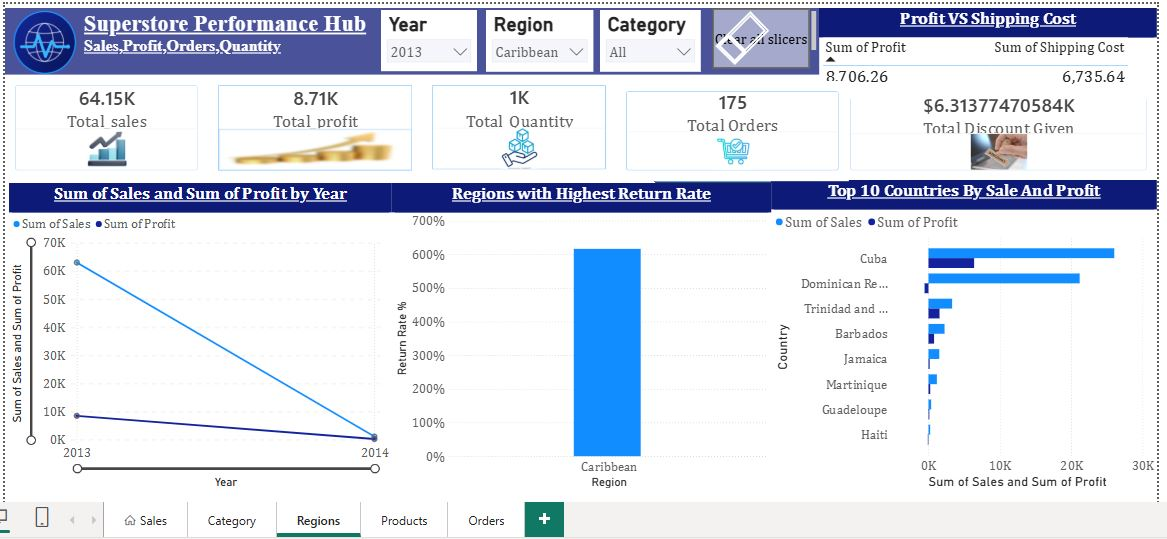

The dashboard page shown, as its layout file describes it:
{"tool":"powerbi","page":{"name":"Regions","canvas":[1920,1080],"ordinal":2},"visuals":[{"type":"cardVisual","fields":{"Data":["Profit-measures.Total_sales"]},"box":[1081.7,158.3,260.6,139.7],"z":0},{"type":"cardVisual","fields":{"Data":["Profit-measures.Total Discount Given"]},"box":[1391.7,133.3,528.3,161.7],"z":1000},{"type":"lineChart","fields":{"Category":["Orders.Ship Date.Variation.Date Hierarchy.Year"],"Y":["Sum(Orders.Sales)","Sum(Orders.Profit)"]},"box":[6.7,298.3,638.3,513.3],"z":2000},{"type":"clusteredBarChart","title":"Top 10 Countries By Sale And Profit","fields":{"Category":["Orders.Country"],"Y":["Sum(Orders.Sales)","Sum(Orders.Profit)"]},"box":[1276.7,293.3,643.3,518.3],"z":3000},{"type":"tableEx","title":"Profit VS Shipping Cost","fields":{"Values":["Orders.Profit","Orders.Shipping Cost"]},"box":[1356.7,6.7,563.3,151.7],"z":4000},{"type":"lineStackedColumnComboChart","title":"Regions with Highest Return Rate","fields":{"Category":["Orders.Region"],"Y":["Profit-measures.Return Rate %"]},"box":[645,298.3,631.7,513.3],"z":5000},{"type":"textbox","title":"Superstore Performance Hub","box":[0,6.3,1357.1,111.1],"z":6000},{"type":"image","box":[6.3,9.5,119,107.9],"z":7000},{"type":"slicer","fields":{"Values":["Custom_Calender.Date.Variation.Date Hierarchy.Year"]},"box":[627,9.5,160.3,101.6],"z":8000},{"type":"slicer","fields":{"Values":["Orders.Category"]},"box":[992.1,9.5,168.3,103.2],"z":9000},{"type":"slicer","fields":{"Values":["Orders.Region"]},"box":[801.6,9.5,179.4,103.2],"z":10000},{"type":"actionButton","box":[1177.8,6.3,163.5,101.6],"z":11000},{"type":"cardVisual","fields":{"Data":["Profit-measures.Total_sales"]},"box":[0,119,338.1,176.2],"z":12000},{"type":"cardVisual","fields":{"Data":["Profit-measures.Totl_qunatity"]},"box":[695.2,119,323.8,174.6],"z":13000},{"type":"cardVisual","fields":{"Data":["Profit-measures.Total Orders"]},"box":[1018.3,128.3,388.3,166.7],"z":14000},{"type":"cardVisual","fields":{"Data":["Profit-measures.Total_profit"]},"box":[338.1,119,357.1,176.2],"z":15000}]}

Visuals, with their boxes on the page's 1920x1080 design canvas (x1, y1, x2, y2). These are canvas units, not pixel positions in the 1167x539 screenshot, which may show the page scaled, cropped or inside an application window:
cardVisual - Profit-measures.Total_sales: 1082 158 1342 298
cardVisual - Profit-measures.Total Discount Given: 1392 133 1920 295
lineChart - Orders.Ship Date.Variation.Date Hierarchy.Year x Sum(Orders.Sales): 7 298 645 812
"Top 10 Countries By Sale And Profit" clusteredBarChart: 1277 293 1920 812
"Profit VS Shipping Cost" tableEx: 1357 7 1920 158
"Regions with Highest Return Rate" lineStackedColumnComboChart: 645 298 1277 812
"Superstore Performance Hub" textbox: 0 6 1357 117
image: 6 10 125 117
slicer - Custom_Calender.Date.Variation.Date Hierarchy.Year: 627 10 787 111
slicer - Orders.Category: 992 10 1160 113
slicer - Orders.Region: 802 10 981 113
actionButton: 1178 6 1341 108
cardVisual - Profit-measures.Total_sales: 0 119 338 295
cardVisual - Profit-measures.Totl_qunatity: 695 119 1019 294
cardVisual - Profit-measures.Total Orders: 1018 128 1407 295
cardVisual - Profit-measures.Total_profit: 338 119 695 295
